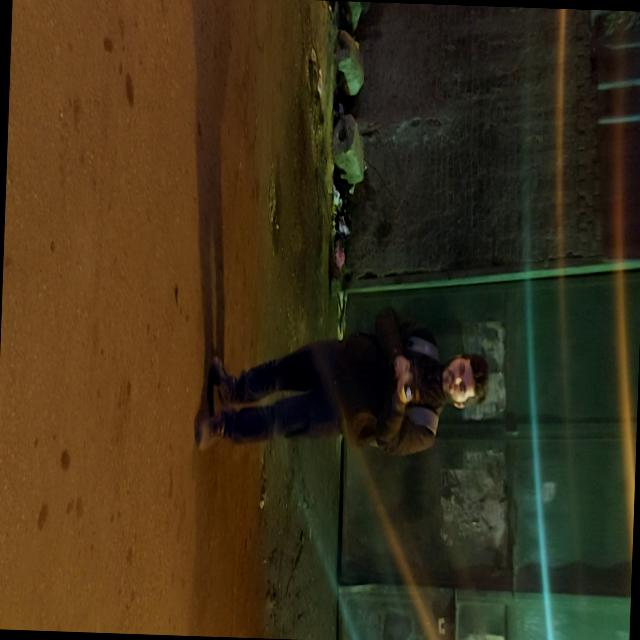long weapon: (381, 326, 433, 424)
